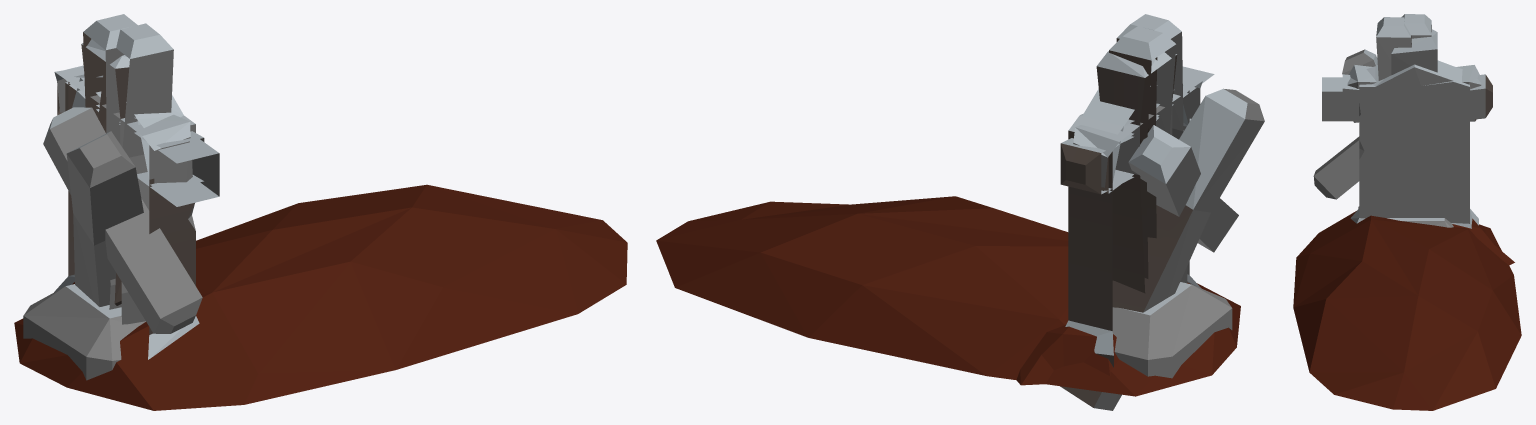
Rendered from Exterior_decor.fbx.
3 renders of one model, left to right at view 1: azimuth 30°, elevation 25°; view 2: azimuth 150°, elevation 25°; view 3: azimuth 270°, elevation 25°, orthographic. The views are drawn at different scales.
Parts seen in each view (by area): view 1: Grave_3, Grave_1, Grave_4, Grave_2, Grave_6, Grave_5; view 2: Grave_3, Grave_1, Grave_4, Grave_6, Grave_2, Grave_5; view 3: Grave_3, Grave_6, Grave_5, Grave_1, Grave_4, Grave_2.
Part boxes in pixels (box(x1,y1,x2,y2)): Grave_3: box(14, 23, 627, 410); Grave_1: box(43, 107, 202, 333); Grave_4: box(23, 39, 192, 380); Grave_2: box(57, 14, 204, 309); Grave_6: box(72, 75, 199, 359); Grave_5: box(54, 74, 195, 292); Grave_3: box(656, 14, 1240, 396); Grave_1: box(1016, 88, 1264, 410); Grave_4: box(1073, 51, 1232, 378); Grave_6: box(1065, 85, 1188, 367); Grave_2: box(1060, 26, 1195, 278); Grave_5: box(1068, 85, 1201, 288); Grave_3: box(1293, 17, 1521, 410); Grave_6: box(1350, 60, 1478, 228); Grave_5: box(1357, 66, 1469, 223); Grave_1: box(1313, 49, 1514, 265); Grave_4: box(1347, 29, 1481, 227); Grave_2: box(1342, 14, 1492, 119).
Size of the model in its own units: 178 by 111 by 88.06.
